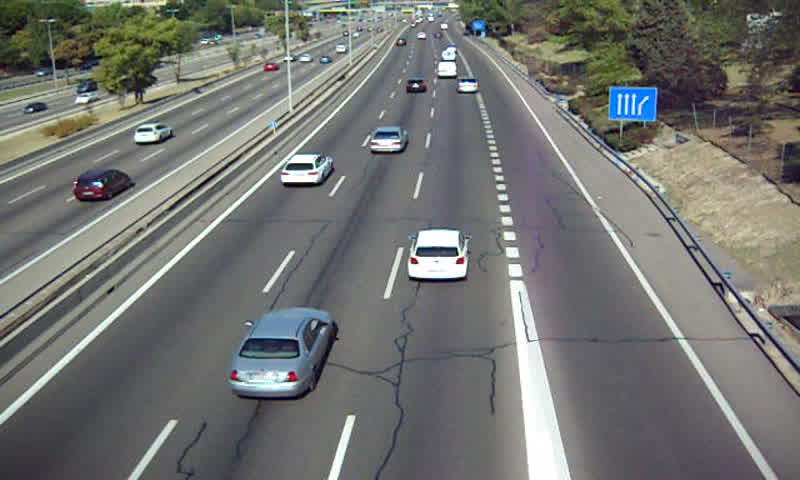car: (228, 308, 334, 399), (408, 229, 468, 280), (280, 155, 331, 186), (370, 126, 408, 154), (457, 76, 482, 95), (404, 79, 428, 94)
van: (436, 61, 458, 78), (443, 48, 457, 61)
